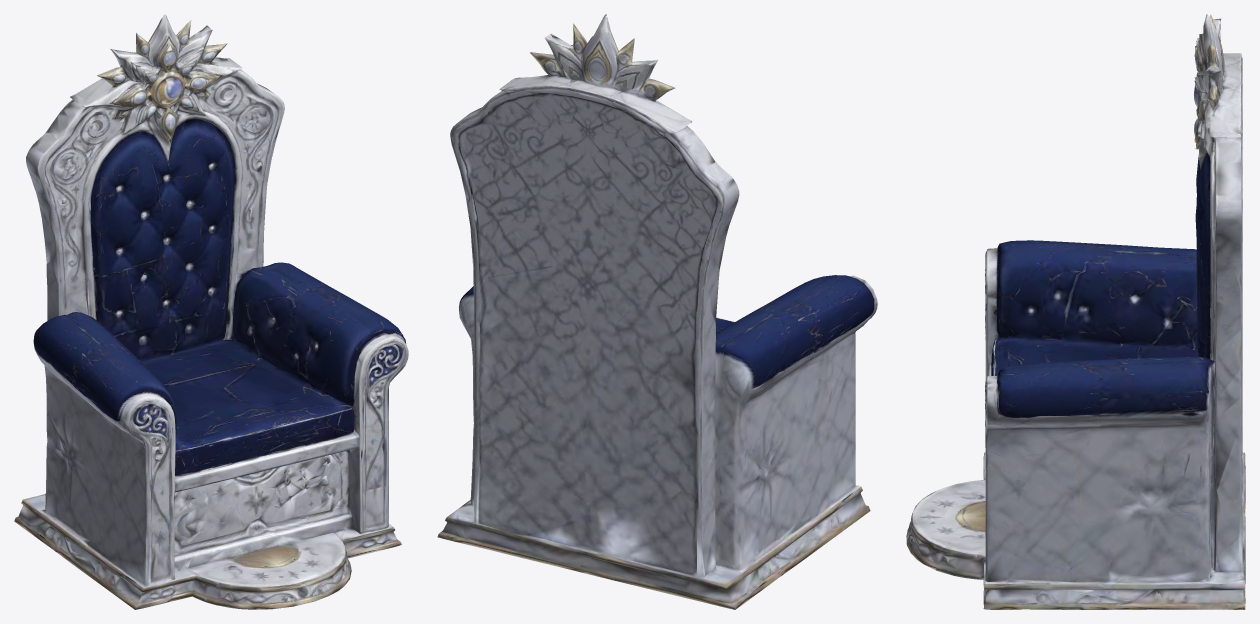
The model's file is chair.glb.
3 renders of one model, left to right at view 1: azimuth 30°, elevation 25°; view 2: azimuth 150°, elevation 25°; view 3: azimuth 270°, elevation 25°, orthographic. The views are drawn at different scales.
Bounding box in the file's own units: 1.19 × 1.9 × 1.11.
Materials: 1 (1 with a texture image).
